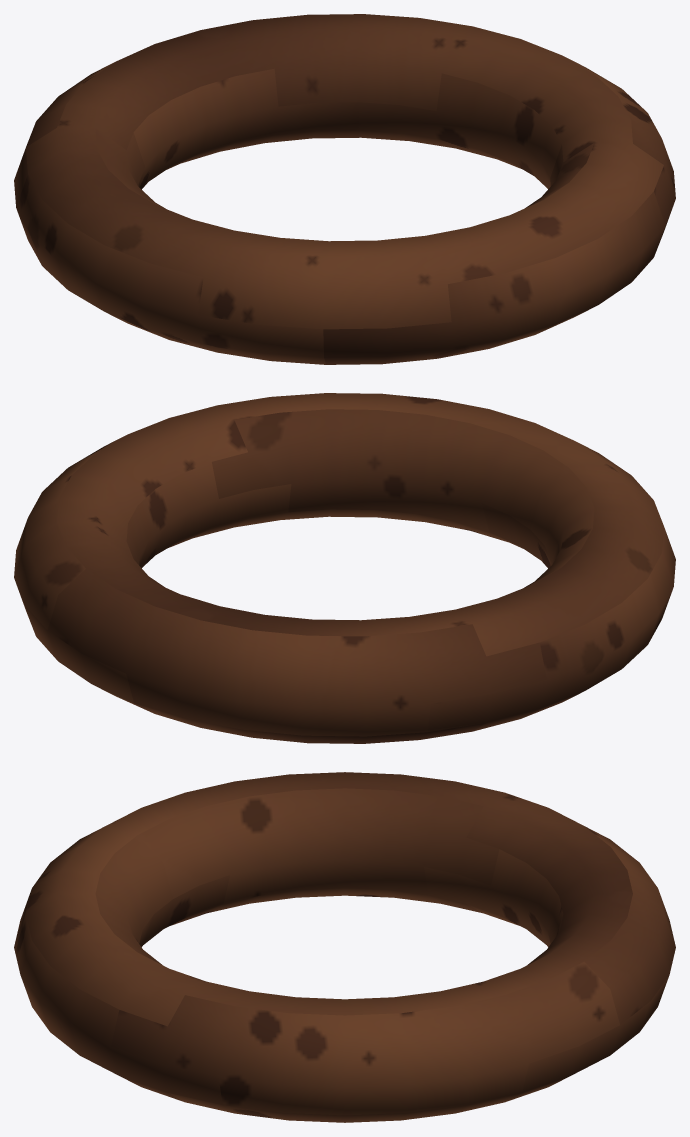
File: acc_band.glb
The picture shows the model from 3 angles, top to bottom: view 1: azimuth 30°, elevation 25°; view 2: azimuth 150°, elevation 25°; view 3: azimuth 270°, elevation 25°; orthographic projection.
Visible parts, largest first — view 1: acc_band; view 2: acc_band; view 3: acc_band.
Boxes of the visible parts, <box> form: acc_band: <box>14,14,675,364</box>; acc_band: <box>14,393,675,743</box>; acc_band: <box>14,772,675,1122</box>.
Size of the model in its own units: 0.0234 by 0.00418 by 0.0234.
1 material, 1 textured.
